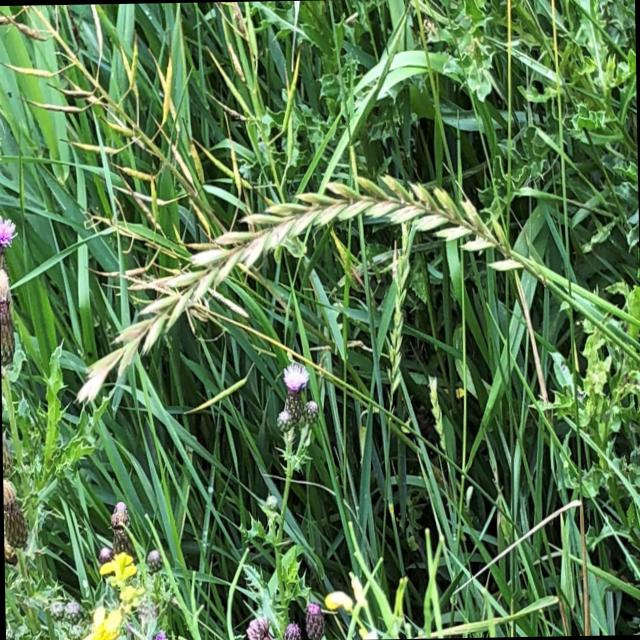Lolium: (74, 165, 505, 411)
